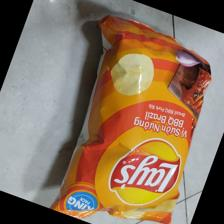Lays: (51, 13, 214, 224)
